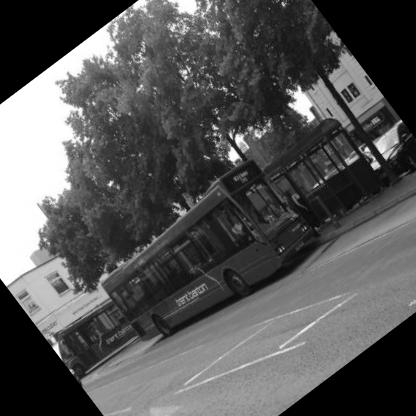bus: (88, 144, 345, 387)
